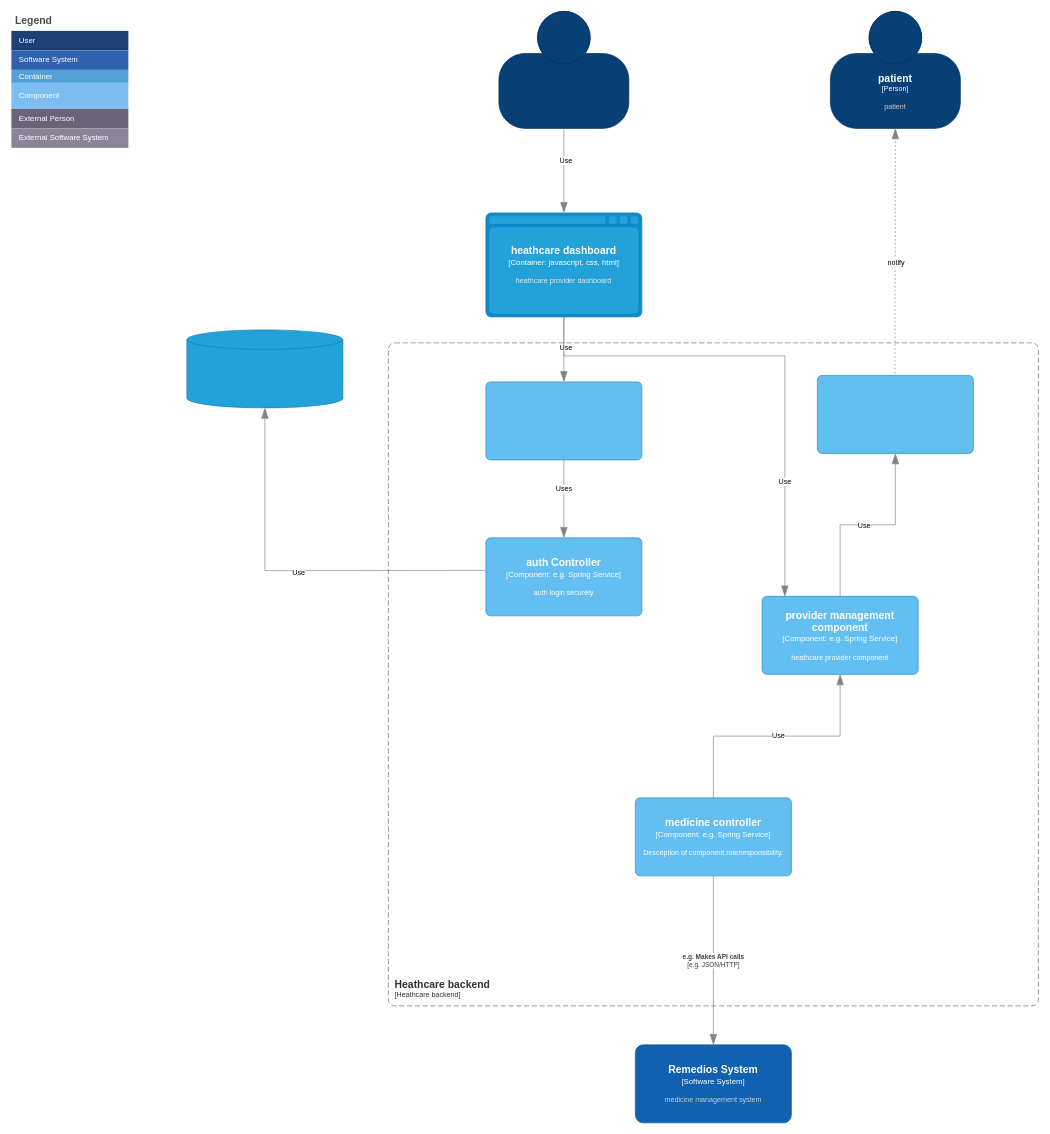
Image size: 1050x1134. Some labels were removed from this diagram. The centre of each missing label's shape, as x and y in pixels:
"database [Container: postgres] store the patients and pharmacists informations" belongs at point 264,368.
"Login Controller [Component: e.g. Spring Service] allow users to sign in" belongs at point 563,420.
"notificantion controller [Component: e.g. Spring Service] pushes notifications" belongs at point 895,414.
"Pharmacist [Person] Pharmacist" belongs at point 563,69.
